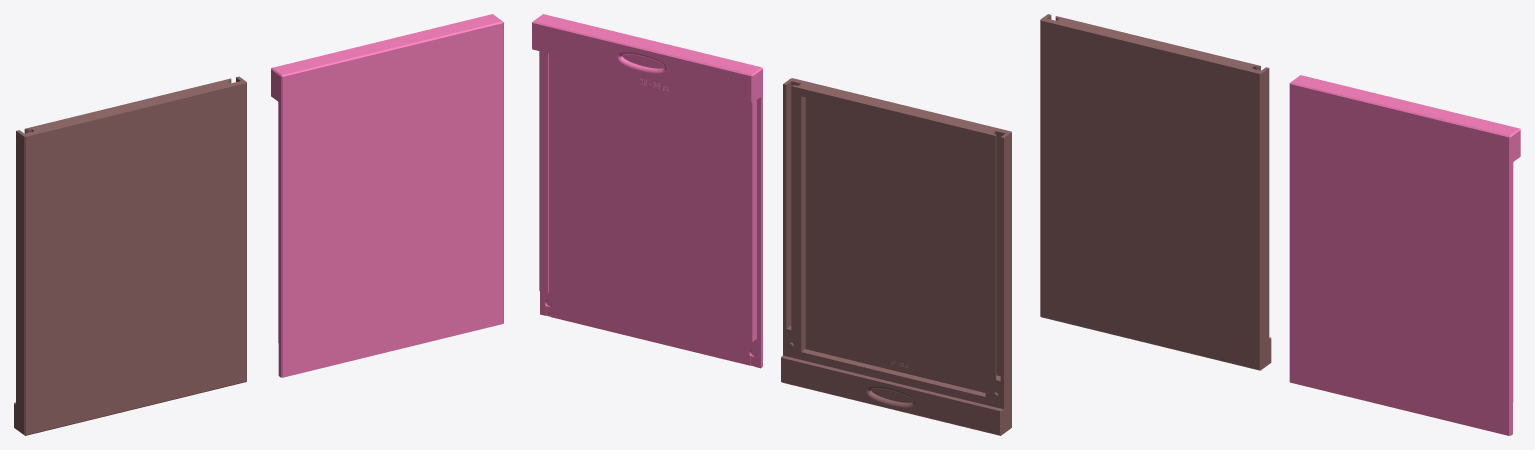
The model's file is Card_Protector.glb.
3 renders of one model, left to right at view 1: azimuth 30°, elevation 25°; view 2: azimuth 150°, elevation 25°; view 3: azimuth 330°, elevation 25°, orthographic.
Parts seen in each view (by area): view 1: 3mm - Bottom\20 - 35pt, 3mm - Lid\20-35pt; view 2: 3mm - Bottom\20 - 35pt, 3mm - Lid\20-35pt; view 3: 3mm - Bottom\20 - 35pt, 3mm - Lid\20-35pt.
Boxes of the visible parts, box(x1,y1,x2,y2) form: 3mm - Bottom\20 - 35pt: box(14, 76, 246, 435); 3mm - Lid\20-35pt: box(271, 14, 503, 377); 3mm - Bottom\20 - 35pt: box(781, 78, 1011, 435); 3mm - Lid\20-35pt: box(532, 14, 762, 368); 3mm - Bottom\20 - 35pt: box(1040, 14, 1271, 370); 3mm - Lid\20-35pt: box(1289, 75, 1520, 435).
Size of the model in its own units: 199 by 120 by 10.2.
